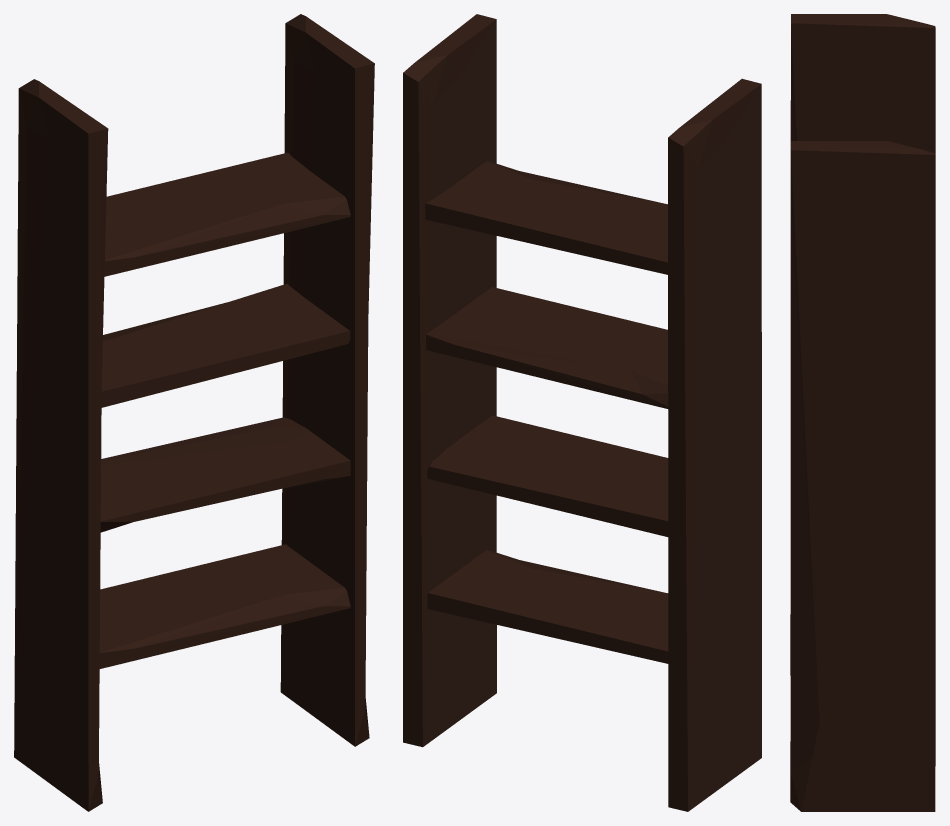
Rendered from SM_shelf_wooden_02.fbx.
3 views of the same model, side by side, from view 1: azimuth 30°, elevation 25°; view 2: azimuth 150°, elevation 25°; view 3: azimuth 270°, elevation 25° (orthographic). The views are drawn at different scales.
Parts seen in each view (by area): view 1: Object521; view 2: Object521; view 3: Object521.
Part boxes in pixels (x1,y1,x2,y2): Object521: (14,14,374,811); Object521: (403,14,761,811); Object521: (790,14,935,811).
Size of the model in its own units: 43.49 by 98.35 by 19.54.
